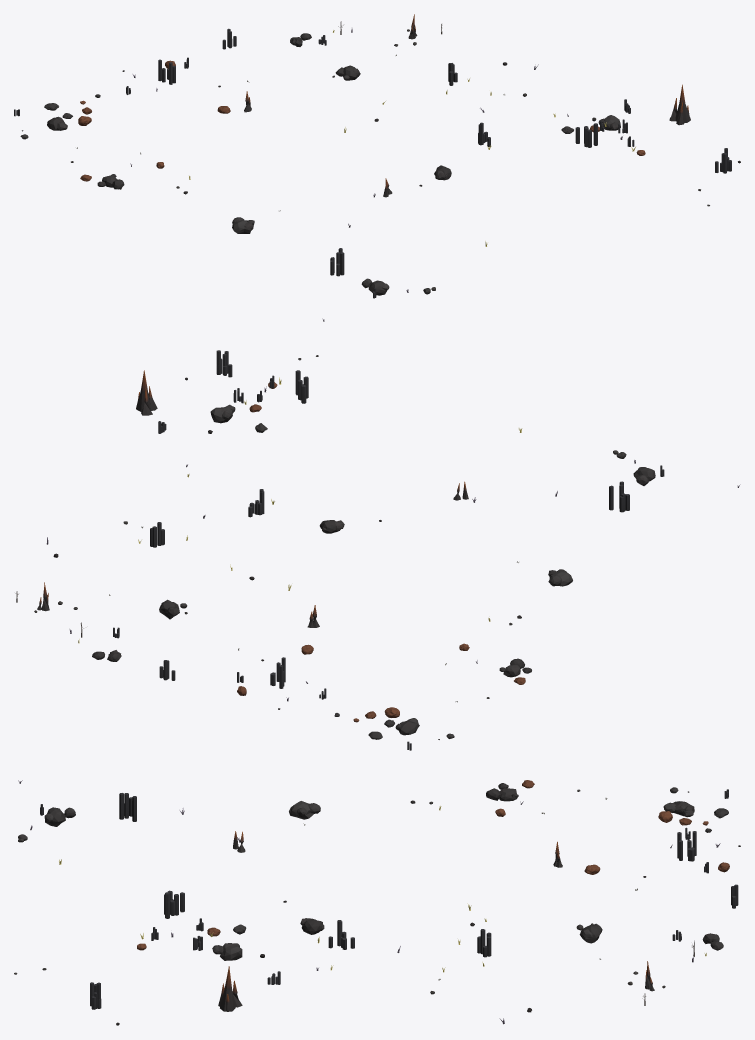
The model's file is ash_land_scatter_c21_30.glb.
The picture shows the model from 3 angles, top to bottom: view 1: azimuth 30°, elevation 25°; view 2: azimuth 150°, elevation 25°; view 3: azimuth 270°, elevation 25°; orthographic projection. The views are drawn at different scales.
Visible parts, largest first — view 1: ash_land_scatter_c21_30; view 2: ash_land_scatter_c21_30; view 3: ash_land_scatter_c21_30.
Boxes of the visible parts, x1,y1,x2,y2 form: ash_land_scatter_c21_30: (14, 14, 740, 321); ash_land_scatter_c21_30: (15, 350, 740, 750); ash_land_scatter_c21_30: (14, 780, 740, 1025).
Size of the model in its own units: 228 by 39.78 by 254.
